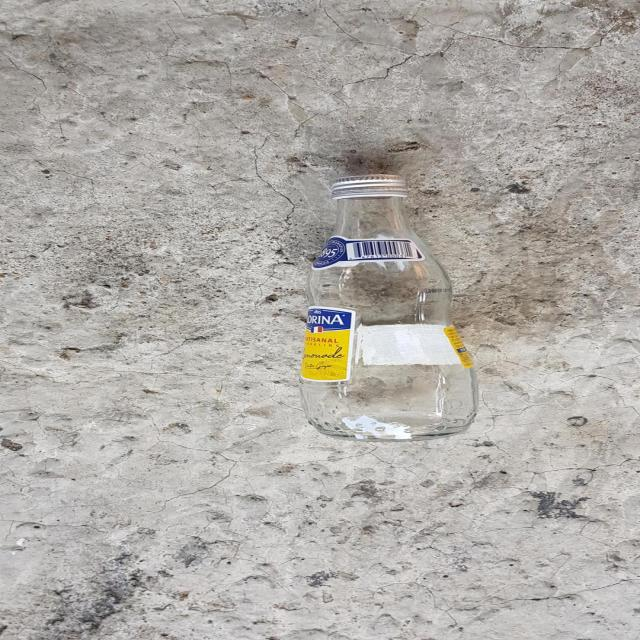glass: (300, 175, 477, 441)
